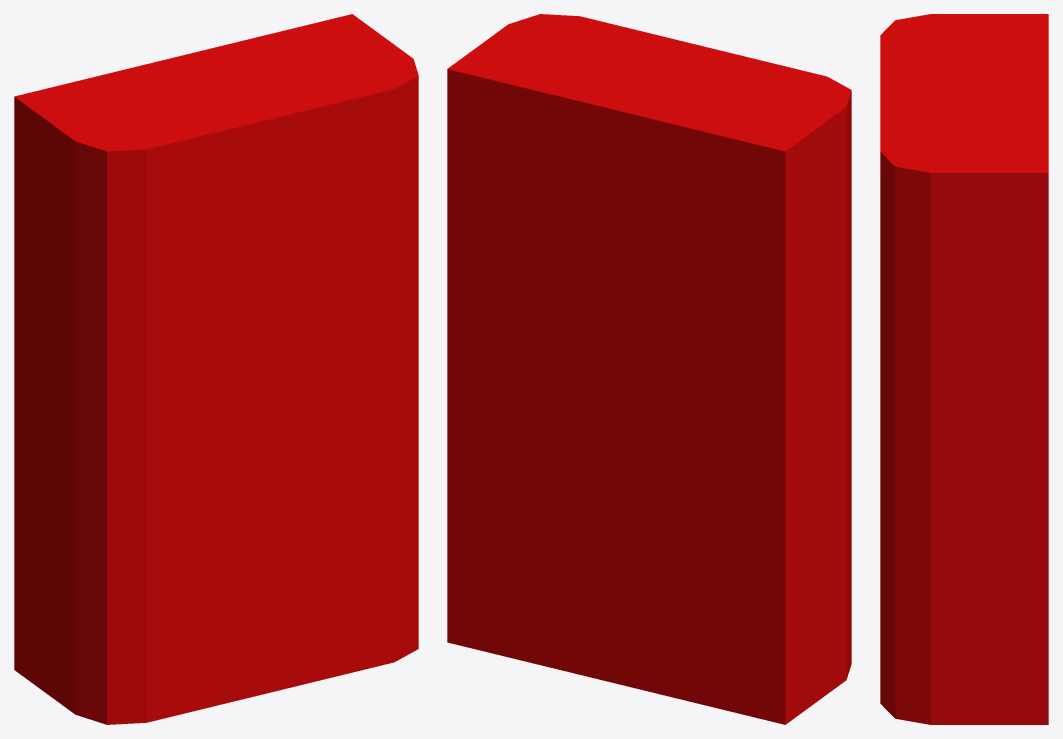
Rendered from c_pipe_3.fbx.
The picture shows the model from 3 angles, left to right: view 1: azimuth 30°, elevation 25°; view 2: azimuth 150°, elevation 25°; view 3: azimuth 270°, elevation 25°; orthographic projection. The views are drawn at different scales.
Parts seen in each view (by area): view 1: coll_pipe_3; view 2: coll_pipe_3; view 3: coll_pipe_3.
Boxes of the visible parts, x1,y1,x2,y2 form: coll_pipe_3: (14, 14, 418, 724); coll_pipe_3: (447, 14, 851, 724); coll_pipe_3: (880, 14, 1048, 724).
Size of the model in its own units: 347 by 562 by 155.
